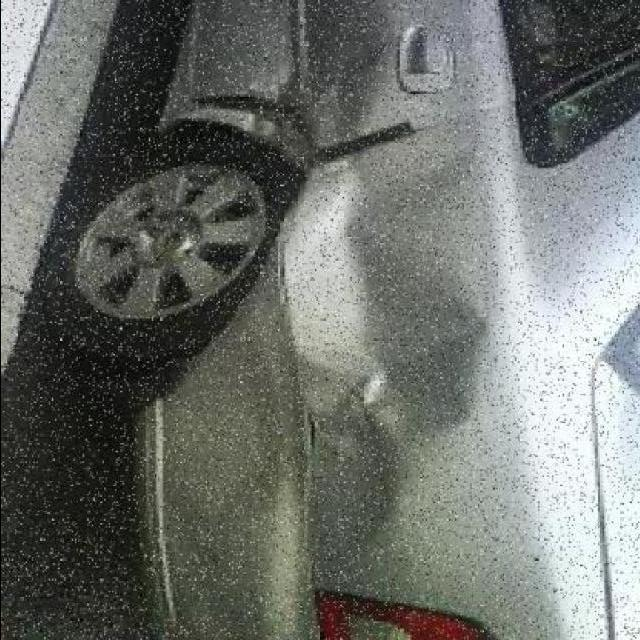doorouter-dent: (183, 0, 514, 129)
quaterpanel-dent: (165, 134, 518, 544)
